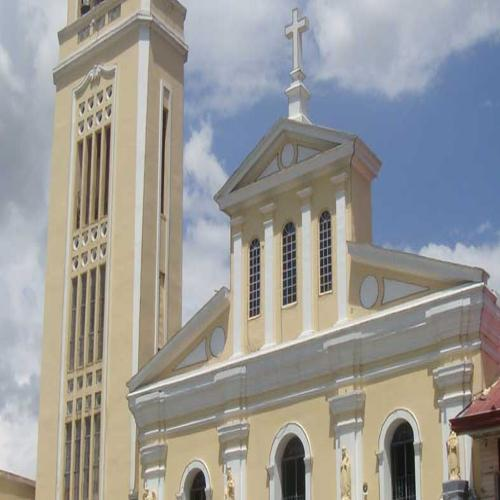Manaoag Church: (42, 3, 490, 497)
